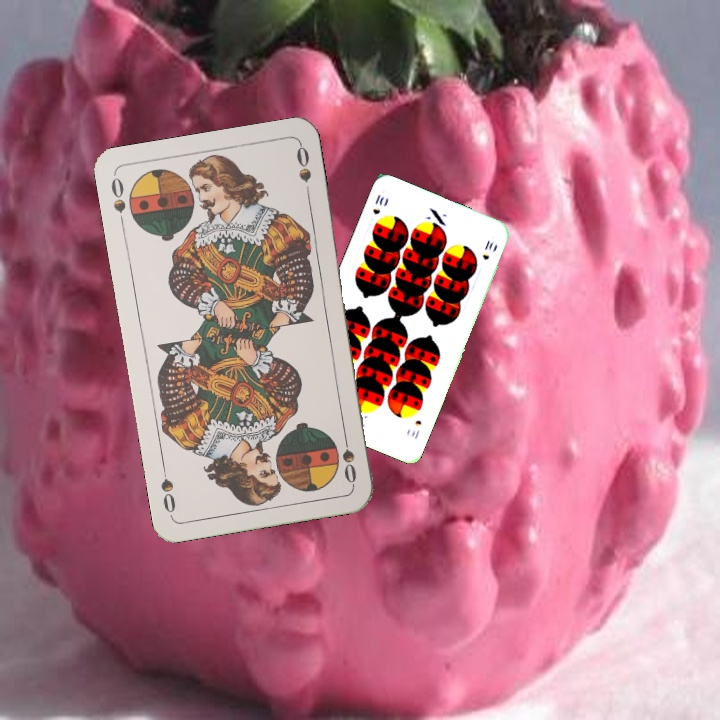S10: (368, 190, 387, 217), (407, 416, 424, 442)
SO: (107, 173, 129, 231), (338, 428, 359, 487)
